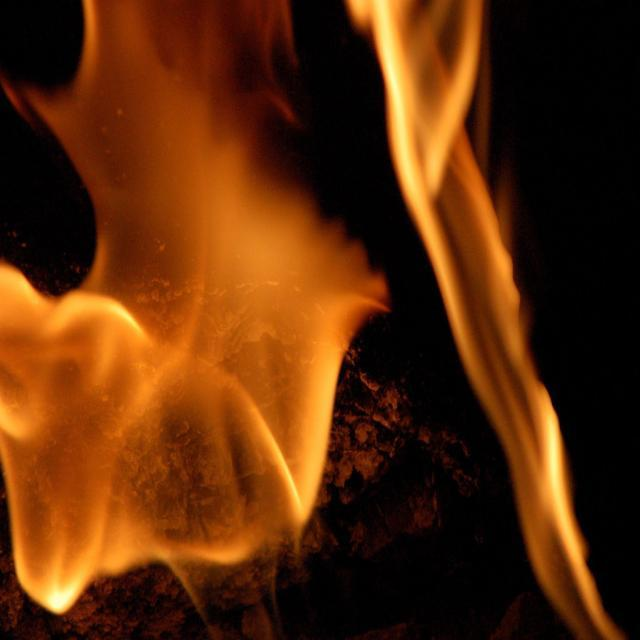Fire: (123, 193, 268, 522), (8, 308, 110, 562)
